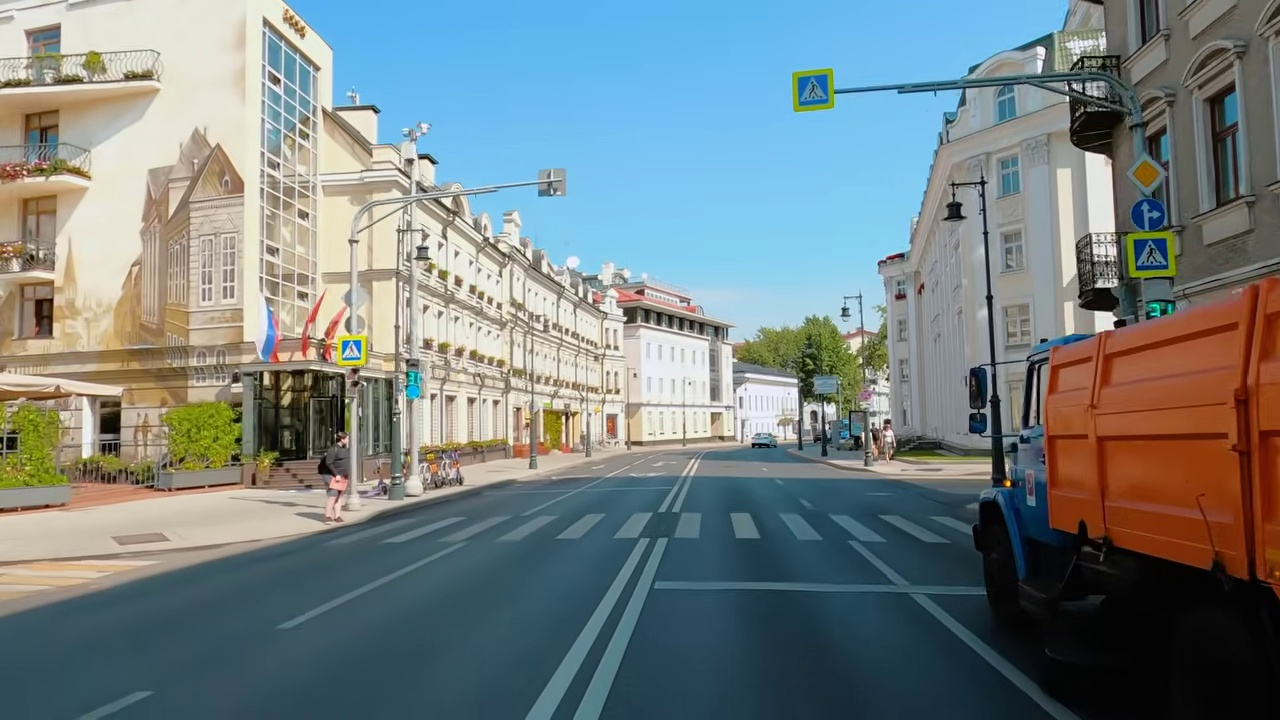apagada: (946, 196, 972, 237), (406, 242, 437, 271)
